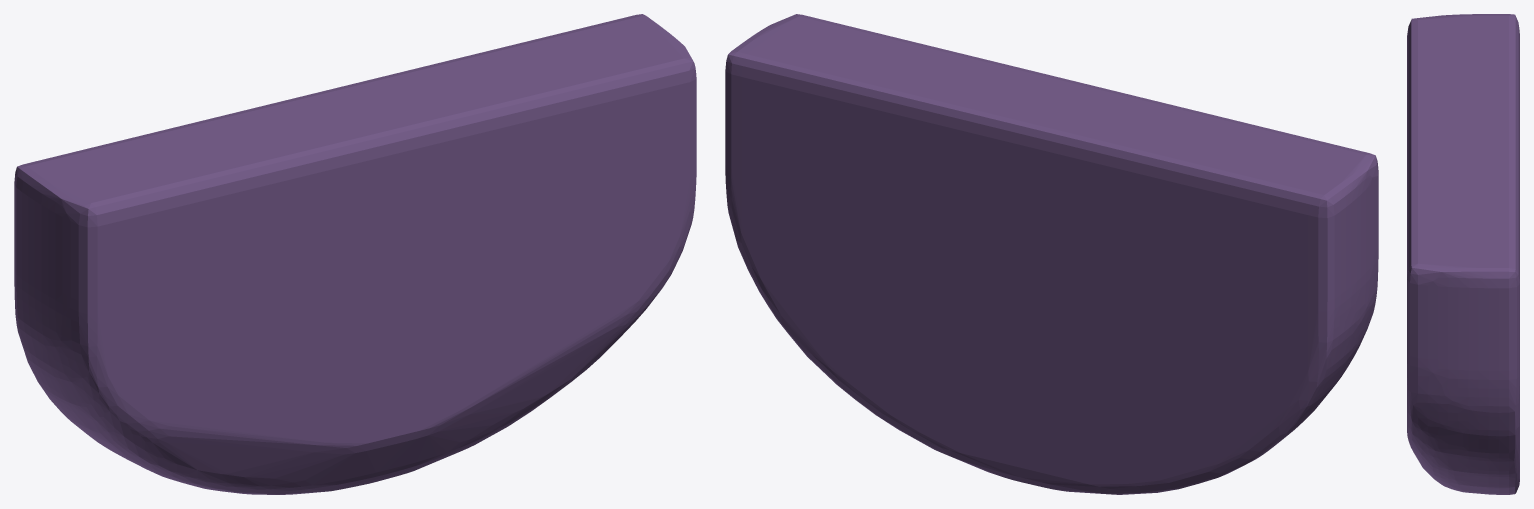
Rendered from pelvis_part_1.obj.
3 views of the same model, side by side, from view 1: azimuth 30°, elevation 25°; view 2: azimuth 150°, elevation 25°; view 3: azimuth 270°, elevation 25° (orthographic). The views are drawn at different scales.
Size of the model in its own units: 0.1405 by 0.0792 by 0.0256.
